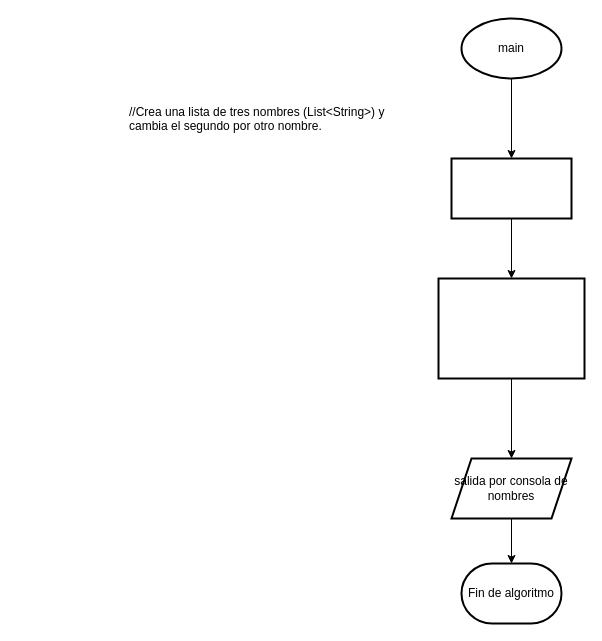
This 602x641 diagram has some shape labels left out. Here are the shapes that lost their labels. From the top down, the centre of each, then its label:
At (x=511, y=188): "List<String> nombres = 3 nombres".
At (x=511, y=328): "accedemos al segundo valor por indice nombres[1] = 'nuevoNombre".
